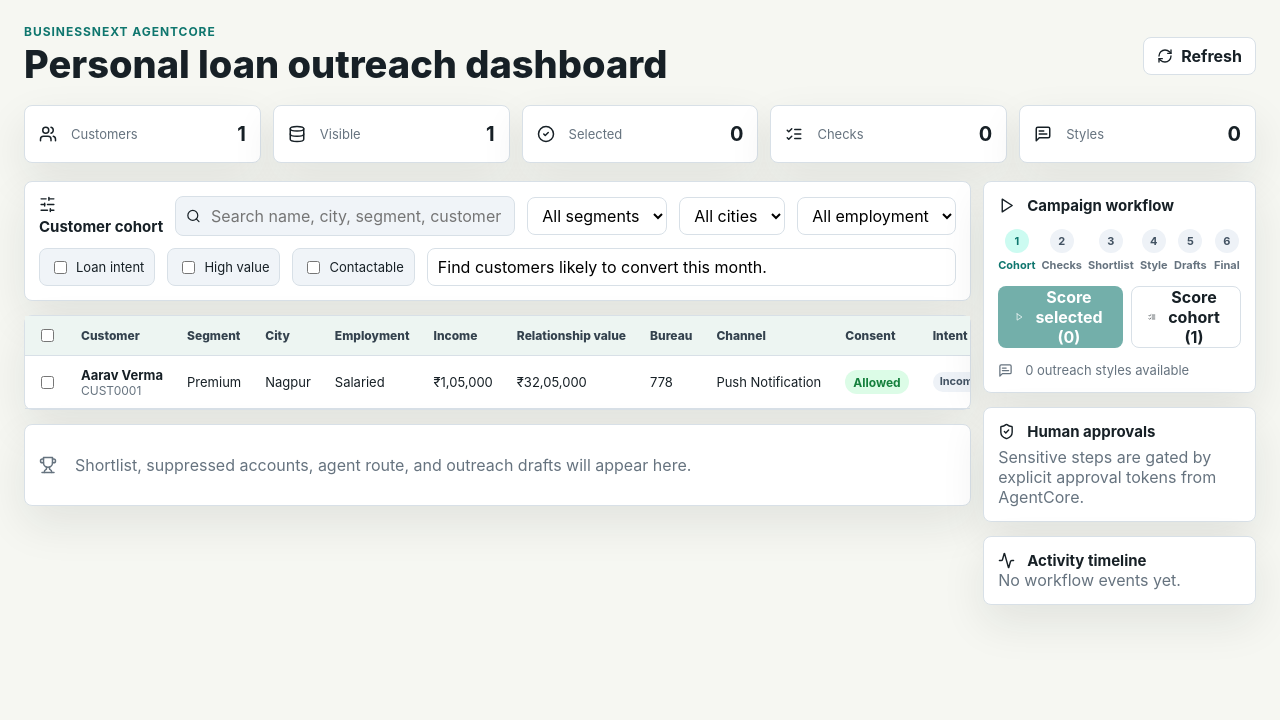
Test case: Dashboard › runs the selected customer workflow
The width and height of the screenshot is (1280, 720).
Expected: the text "Aarav Verma" is shown, [81,366,163,382]
Click the checkbox named "Select Aarav Verma".
click(48, 382)  # box [41,376,54,388]
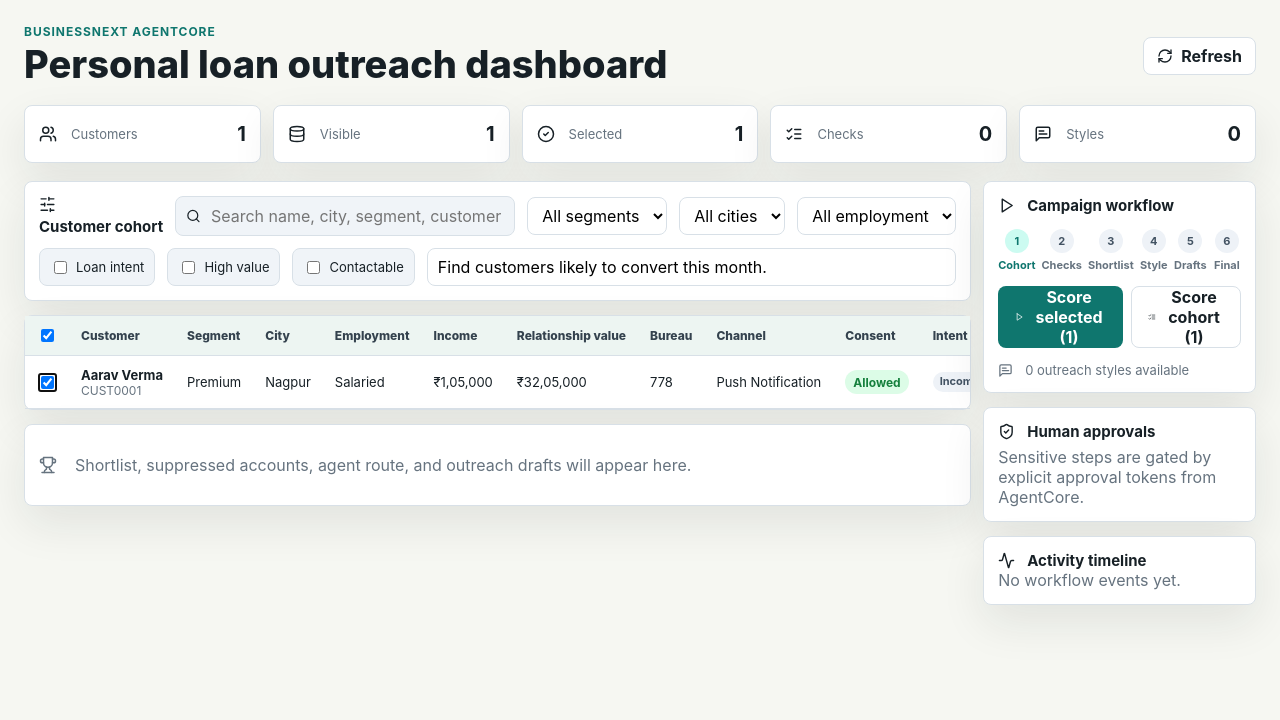
Click the button "Score selected (1)".
click(1061, 317)  # box [998,286,1123,348]
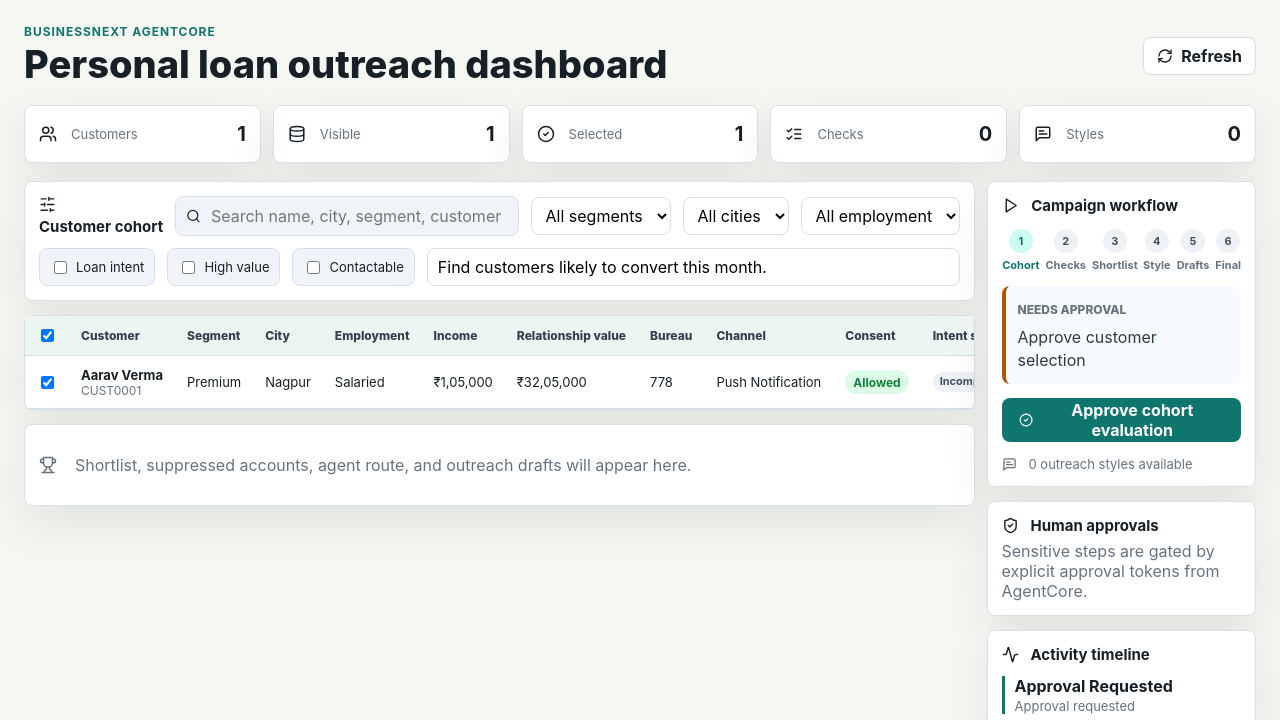
Expected: the text "Approve customer selection" is shown, [1018,327,1157,370]
Expected: the button "Approve cohort evaluation" is shown, [1002,398,1241,442]
